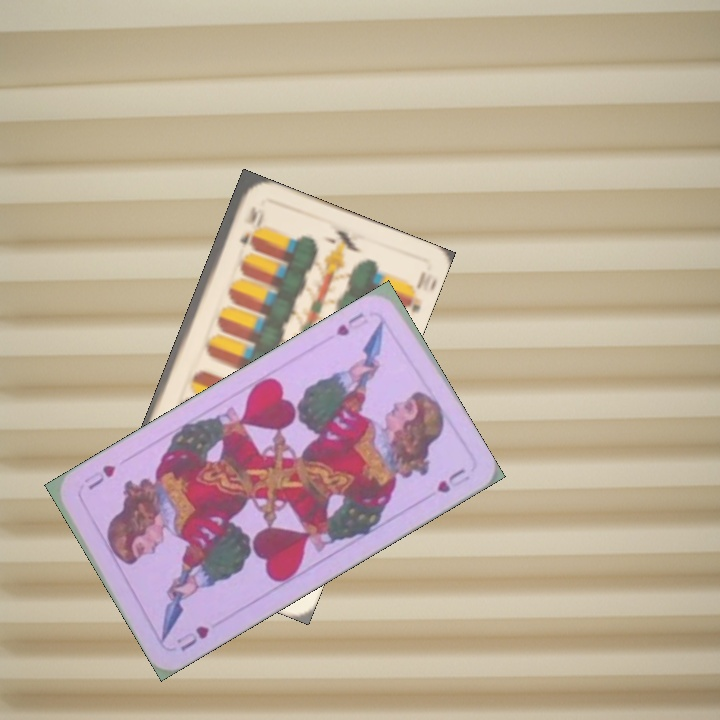E10: (236, 202, 260, 248)
HU: (331, 308, 371, 339), (176, 621, 212, 654)
